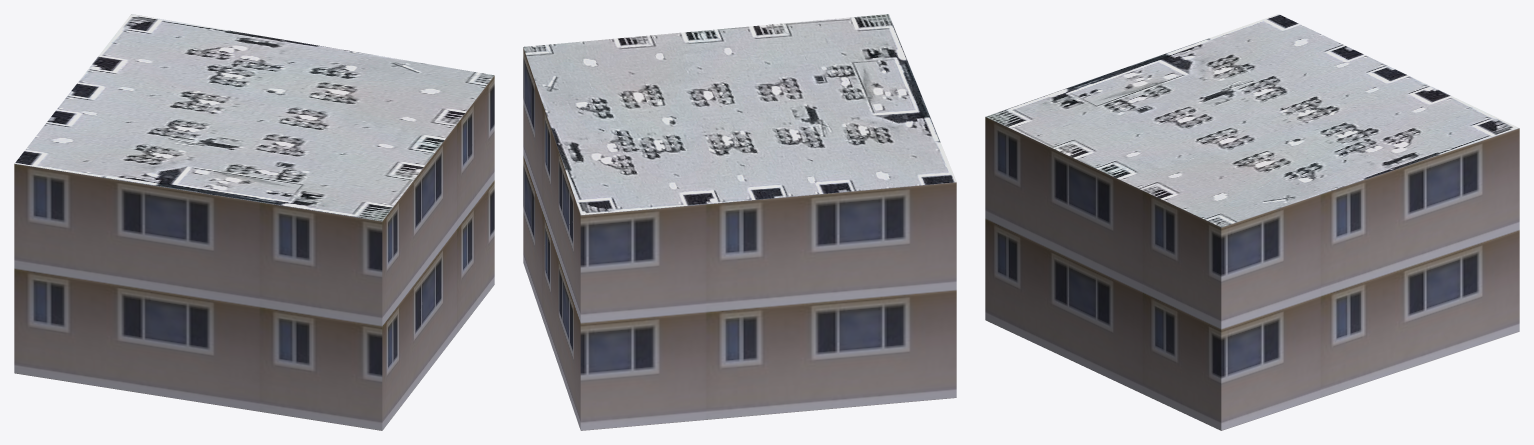
The model's file is ResTex__1632.fbx.
The picture shows the model from 3 angles, left to right: view 1: azimuth 30°, elevation 25°; view 2: azimuth 150°, elevation 25°; view 3: azimuth 270°, elevation 25°; orthographic projection. The views are drawn at different scales.
Parts seen in each view (by area): view 1: CityEngineMaterial_21_m, CityEngineMaterial_4_m; view 2: CityEngineMaterial_21_m, CityEngineMaterial_4_m; view 3: CityEngineMaterial_21_m, CityEngineMaterial_4_m.
Boxes of the visible parts, bbox=[...] form: CityEngineMaterial_21_m: bbox=[14, 75, 494, 430]; CityEngineMaterial_4_m: bbox=[15, 14, 493, 221]; CityEngineMaterial_21_m: bbox=[523, 48, 956, 430]; CityEngineMaterial_4_m: bbox=[523, 14, 956, 214]; CityEngineMaterial_21_m: bbox=[985, 117, 1519, 430]; CityEngineMaterial_4_m: bbox=[986, 14, 1519, 227].
Size of the model in its own units: 13.49 by 6 by 14.27.
Materials: 2 (2 with a texture image).
